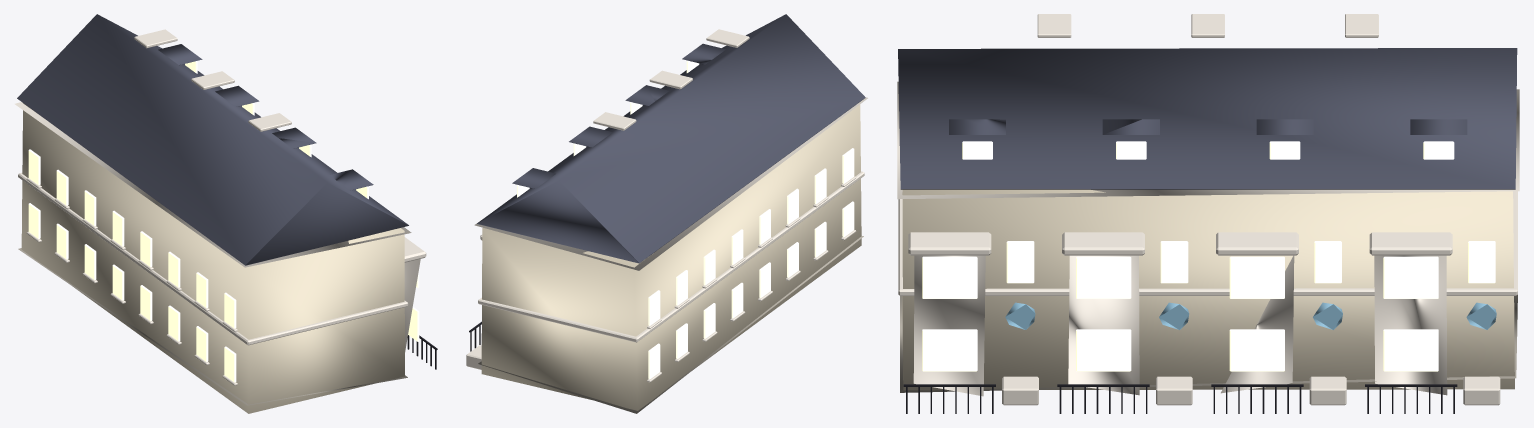
Rendered from townhouse_row_b.glb.
The picture shows the model from 3 angles, left to right: view 1: azimuth 30°, elevation 25°; view 2: azimuth 150°, elevation 25°; view 3: azimuth 270°, elevation 25°; orthographic projection. The views are drawn at different scales.
Visible parts, largest first — view 1: townhouse_row_b; view 2: townhouse_row_b; view 3: townhouse_row_b.
Part boxes in pixels (left/top/right/bottom): townhouse_row_b: left=15, top=14, right=437, bottom=413; townhouse_row_b: left=466, top=14, right=867, bottom=413; townhouse_row_b: left=897, top=14, right=1519, bottom=413.
Bounding box in the file's own units: 9.87 × 11.37 × 20.24.
Materials: 1 (1 with a texture image).
